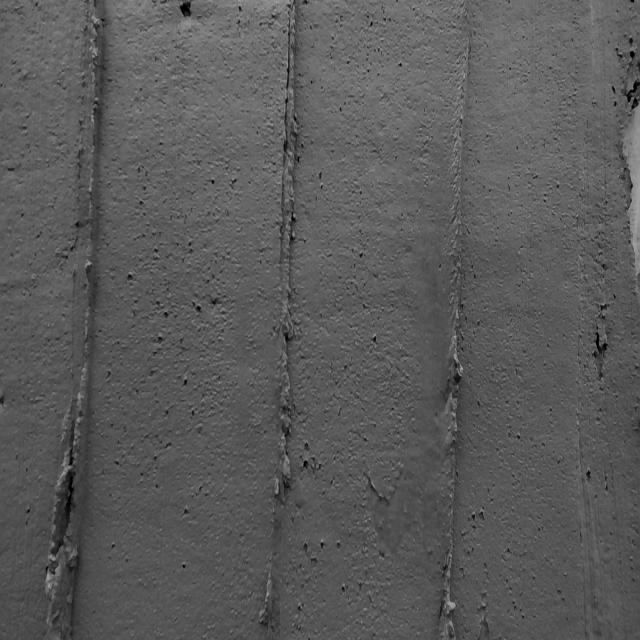trowels marks: (47, 14, 103, 640), (260, 5, 302, 631), (437, 47, 468, 640)
